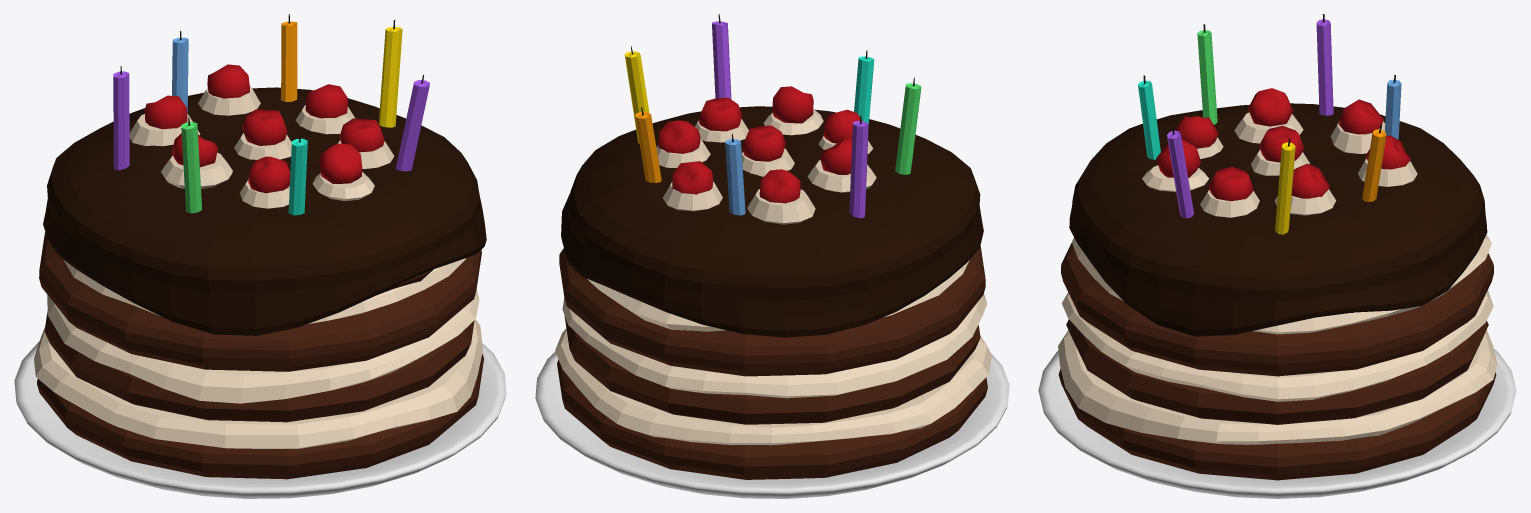
File: Game-Cake.glb
3 renders of one model, left to right at view 1: azimuth 30°, elevation 25°; view 2: azimuth 150°, elevation 25°; view 3: azimuth 270°, elevation 25°, orthographic. The views are drawn at different scales.
Visible parts, largest first — view 1: Cake; view 2: Cake; view 3: Cake.
Part boxes in pixels (x1,y1,x2,y2): Cake: (14, 14, 506, 498); Cake: (535, 14, 1009, 498); Cake: (1038, 14, 1516, 498).
Bounding box in the file's own units: 0.212 × 0.1733 × 0.212.
